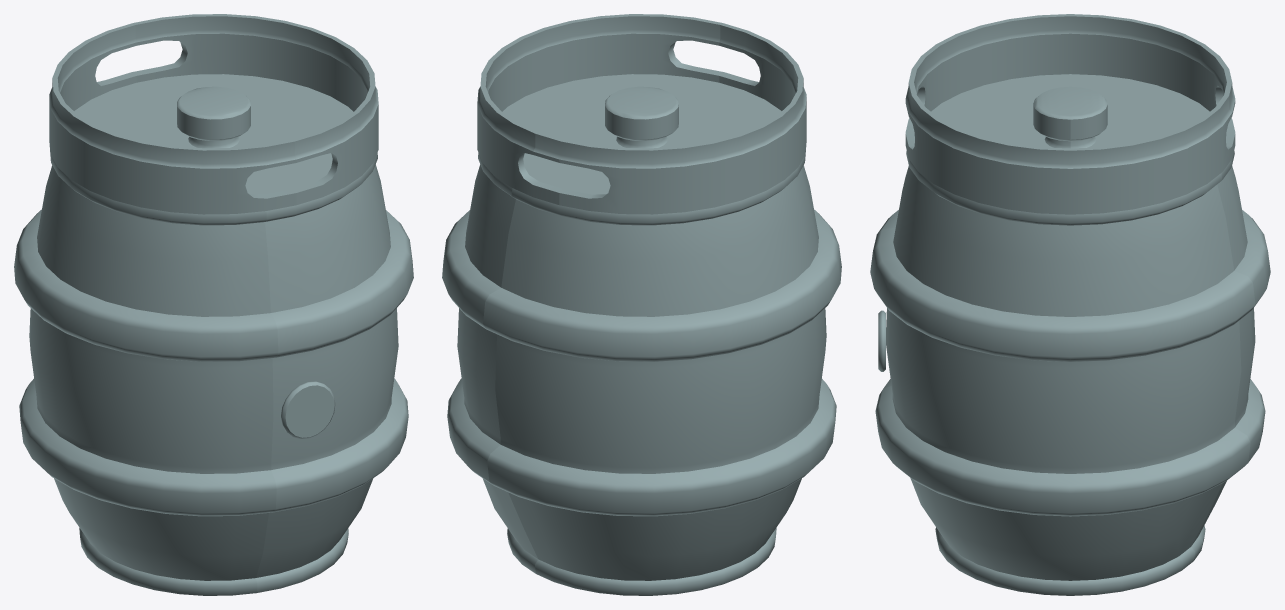
Rendered from steel_keg.fbx.
3 renders of one model, left to right at view 1: azimuth 30°, elevation 25°; view 2: azimuth 150°, elevation 25°; view 3: azimuth 270°, elevation 25°, orthographic.
Visible parts, largest first — view 1: barrel_low, top_ring_low, top_spout_low, middle_spout_low; view 2: barrel_low, top_ring_low, top_spout_low; view 3: barrel_low, top_ring_low, top_spout_low.
Boxes of the visible parts, x1,y1,x2,y2 form: barrel_low: [14, 74, 413, 595]; top_ring_low: [49, 14, 378, 214]; top_spout_low: [177, 86, 250, 148]; middle_spout_low: [281, 381, 335, 439]; barrel_low: [442, 74, 841, 595]; top_ring_low: [477, 14, 806, 214]; top_spout_low: [605, 86, 678, 148]; barrel_low: [870, 74, 1270, 595]; top_ring_low: [905, 14, 1235, 214]; top_spout_low: [1033, 86, 1107, 148].
Bounding box in the file's own units: 65.05 × 82.25 × 65.05.
